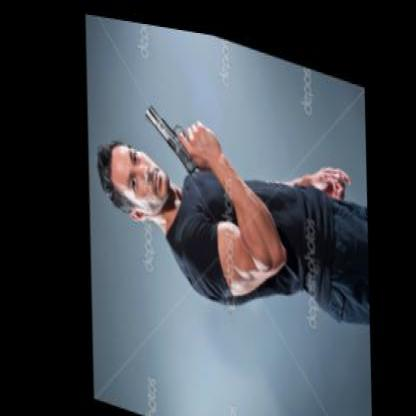pistol: (136, 83, 216, 180)
